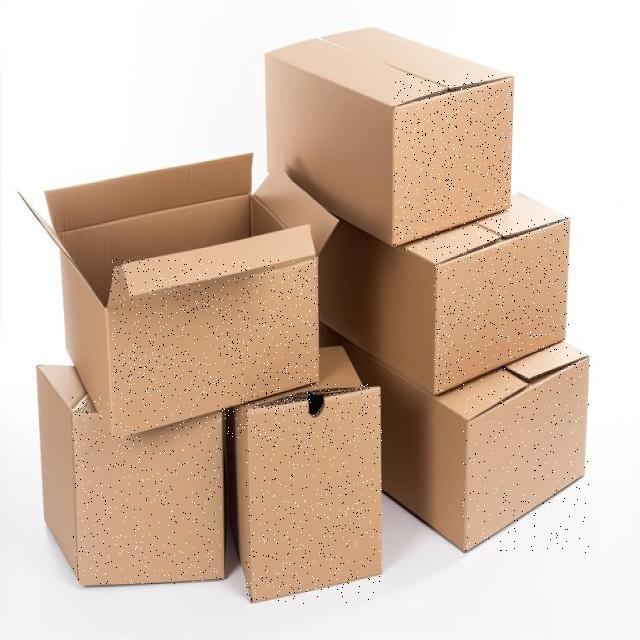BoxFace: (111, 259, 320, 438), (246, 384, 382, 604), (72, 397, 221, 584), (464, 352, 592, 553), (434, 217, 569, 396), (394, 74, 512, 250)
